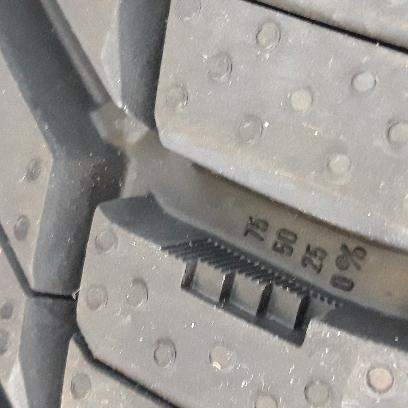temoin:100: (156, 236, 349, 352)
